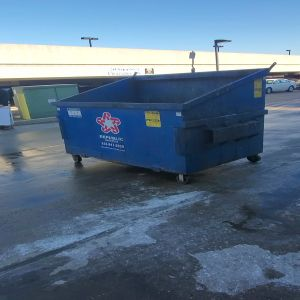Dumpster: (50, 65, 272, 188)
